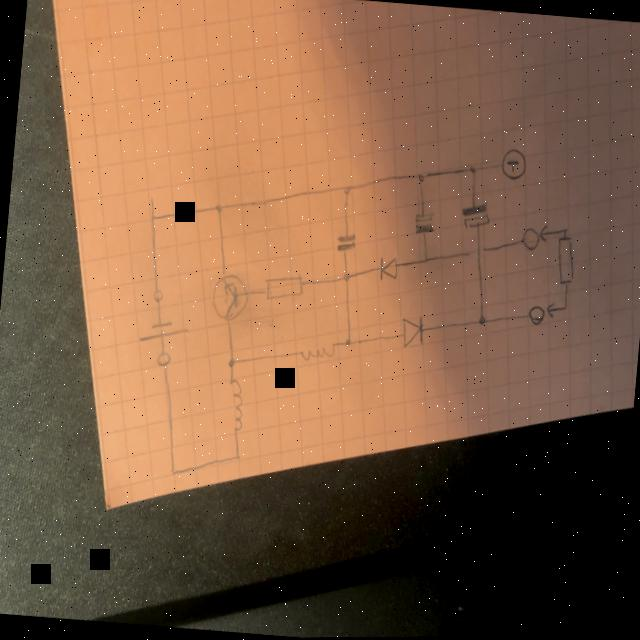capacitor: (459, 201, 491, 232), (413, 210, 435, 237), (335, 232, 356, 254)
crossover: (463, 242, 490, 262)
diode: (399, 315, 424, 351), (378, 256, 398, 283)
ground: (499, 147, 528, 184)
inductor: (224, 378, 247, 433), (298, 341, 336, 365)
junction: (166, 464, 178, 477), (416, 171, 426, 186), (468, 162, 478, 177), (226, 356, 237, 369), (341, 184, 352, 197), (232, 450, 242, 463), (476, 315, 486, 328), (342, 271, 351, 285), (214, 201, 223, 214), (422, 254, 431, 267), (148, 215, 156, 226), (344, 337, 352, 348), (562, 226, 568, 236), (562, 305, 568, 313)
resistor: (262, 270, 304, 305), (553, 234, 577, 287)
source: (136, 316, 190, 349)
transistor: (207, 272, 250, 325)
